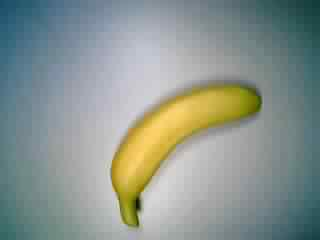banana: (107, 84, 265, 226)
